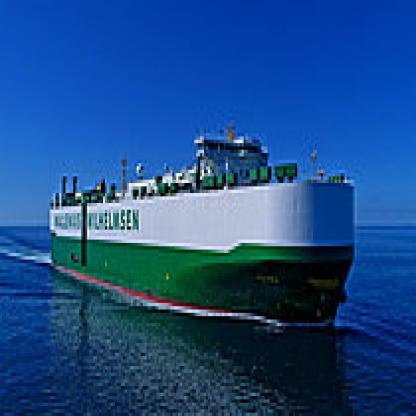Tanker: (44, 176, 364, 310)
